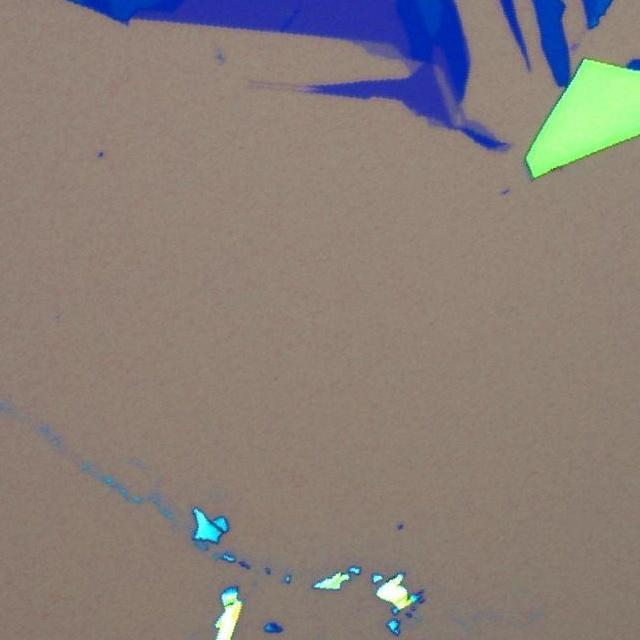monolayer-eWW4: (352, 39, 422, 74), (434, 66, 460, 124), (463, 116, 498, 143)
